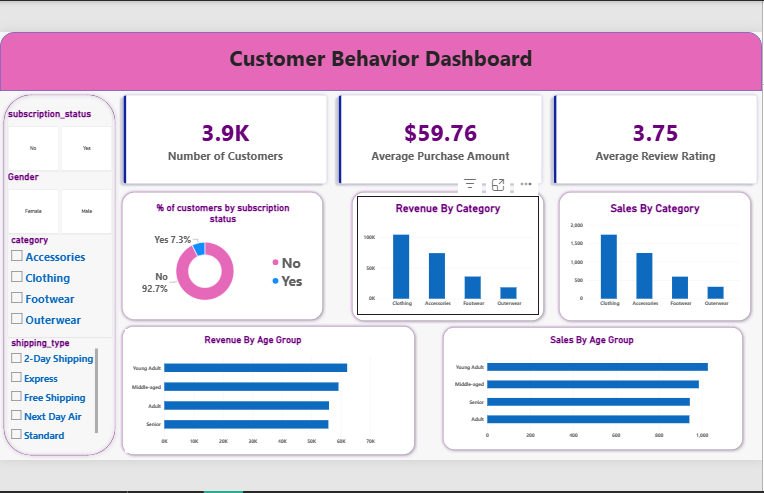

Layout of this report page (visuals, bound fields, positions):
{"tool":"powerbi","page":{"name":"Page 1","canvas":[1920,1080],"ordinal":0},"visuals":[{"type":"cardVisual","fields":{"Data":["customer_behavior customer.Number of Customers","customer_behavior customer.Average Purchase Amount","customer_behavior customer.Average Review Rating"]},"box":[299.8,148.7,1620.2,244.4],"z":0},{"type":"shape","box":[0,0,1920,148.7],"z":1000},{"type":"textbox","box":[0,27.7,1920,120.9],"z":2000},{"type":"shape","box":[299.8,395.6,521.6,337.6],"z":3000},{"type":"donutChart","title":"% of customers by subscription status","fields":{"Category":["customer_behavior customer.subscription_status"],"Y":["Sum(customer_behavior customer.customer_id)"]},"box":[337.6,415.7,448.5,299.8],"z":4000},{"type":"shape","box":[879.4,395.6,498.9,340.2],"z":5000},{"type":"shape","box":[1400.9,395.6,498.9,340.2],"z":6000},{"type":"clusteredColumnChart","title":"Revenue By Category","fields":{"Category":["customer_behavior customer.category"],"Y":["Sum(customer_behavior customer.purchase_amount)"]},"box":[899.5,413.2,458.6,299.8],"z":7000},{"type":"clusteredColumnChart","title":"Sales By Category","fields":{"Category":["customer_behavior customer.category"],"Y":["CountNonNull(customer_behavior customer.customer_id)"]},"box":[1421.1,413.2,458.6,299.8],"z":8000},{"type":"shape","box":[0,148.7,299.8,927.2],"z":9000},{"type":"advancedSlicerVisual","fields":{"Values":["customer_behavior customer.gender"]},"box":[20.2,350.2,262,158],"z":10000},{"type":"advancedSlicerVisual","fields":{"Values":["customer_behavior customer.subscription_status"]},"box":[20.2,191.5,262,158],"z":11000},{"type":"slicer","fields":{"Values":["customer_behavior customer.category"]},"box":[20.2,509,262,259.5],"z":12000},{"type":"slicer","fields":{"Values":["customer_behavior customer.shipping_type"]},"box":[20.2,768.5,226.8,277.2],"z":13000},{"type":"shape","box":[299.8,733.2,753.4,340.2],"z":13004},{"type":"shape","box":[1108.7,735.7,771,325],"z":13005},{"type":"clusteredBarChart","title":"Revenue By Age Group","fields":{"Category":["customer_behavior customer.age_group"],"Y":["Sum(customer_behavior customer.purchase_amount)"]},"box":[315,748.3,645,312.4],"z":13006},{"type":"clusteredBarChart","title":"Sales By Age Group","fields":{"Category":["customer_behavior customer.age_group"],"Y":["CountNonNull(customer_behavior customer.customer_id)"]},"box":[1128.8,748.3,725.7,297.3],"z":13007}]}

Visuals, with their boxes on the page's 1920x1080 design canvas (x1, y1, x2, y2). These are canvas units, not pixel positions in the 764x493 screenshot, which may show the page scaled, cropped or inside an application window:
cardVisual - customer_behavior customer.Number of Customers x customer_behavior customer.Average Purchase Amount: bbox=(300, 149, 1920, 393)
shape: bbox=(0, 0, 1920, 149)
textbox: bbox=(0, 28, 1920, 149)
shape: bbox=(300, 396, 821, 733)
"% of customers by subscription status" donutChart: bbox=(338, 416, 786, 716)
shape: bbox=(879, 396, 1378, 736)
shape: bbox=(1401, 396, 1900, 736)
"Revenue By Category" clusteredColumnChart: bbox=(900, 413, 1358, 713)
"Sales By Category" clusteredColumnChart: bbox=(1421, 413, 1880, 713)
shape: bbox=(0, 149, 300, 1076)
advancedSlicerVisual - customer_behavior customer.gender: bbox=(20, 350, 282, 508)
advancedSlicerVisual - customer_behavior customer.subscription_status: bbox=(20, 192, 282, 350)
slicer - customer_behavior customer.category: bbox=(20, 509, 282, 768)
slicer - customer_behavior customer.shipping_type: bbox=(20, 768, 247, 1046)
shape: bbox=(300, 733, 1053, 1073)
shape: bbox=(1109, 736, 1880, 1061)
"Revenue By Age Group" clusteredBarChart: bbox=(315, 748, 960, 1061)
"Sales By Age Group" clusteredBarChart: bbox=(1129, 748, 1854, 1046)
